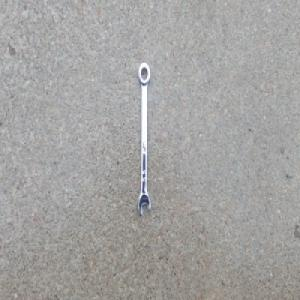Wrench: (137, 61, 151, 217)
